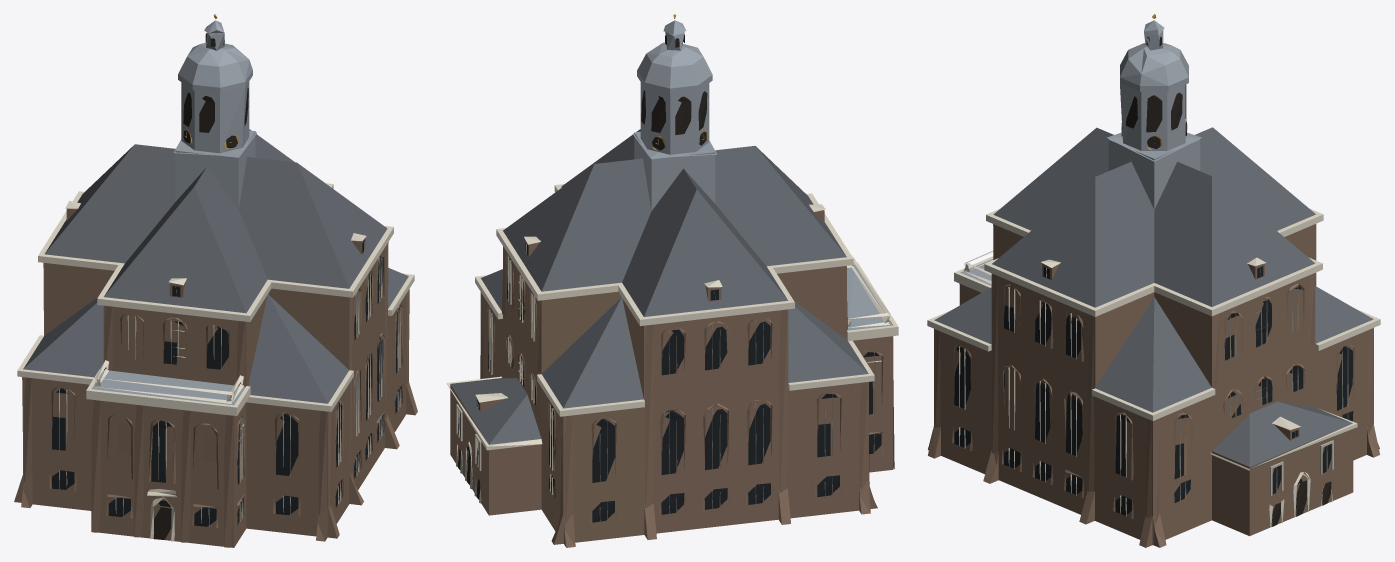
Rendered from oosterkerk.lod1.glb.
3 renders of one model, left to right at view 1: azimuth 30°, elevation 25°; view 2: azimuth 150°, elevation 25°; view 3: azimuth 270°, elevation 25°, orthographic. The views are drawn at different scales.
Visible parts, largest first — view 1: oosterkerk; view 2: oosterkerk; view 3: oosterkerk.
Boxes of the visible parts, x1=… form: oosterkerk: x1=14, y1=14, x2=417, y2=547; oosterkerk: x1=446, y1=14, x2=898, y2=547; oosterkerk: x1=927, y1=14, x2=1380, y2=547.
Size of the model in its own units: 43.35 by 46.25 by 43.35.
